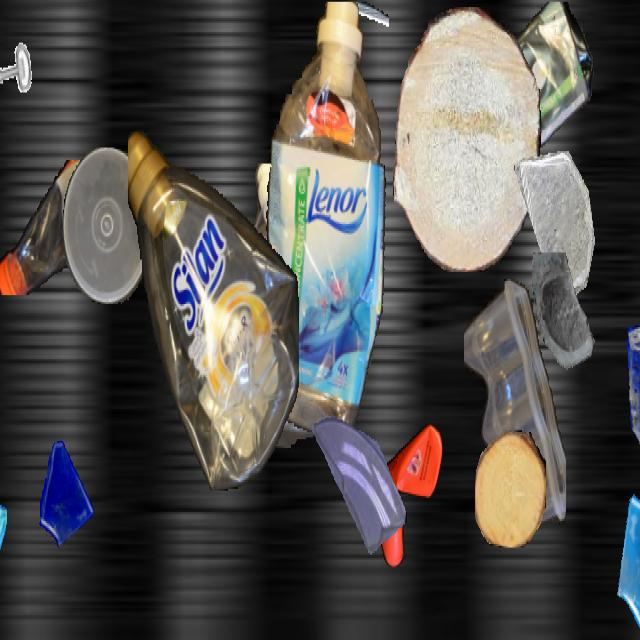glass: (312, 402, 406, 569), (514, 151, 598, 301), (527, 253, 605, 391), (34, 436, 96, 546), (613, 478, 640, 638), (621, 306, 640, 473), (0, 478, 6, 638)
metal: (326, 2, 388, 112), (0, 4, 35, 103)
plastic: (128, 117, 298, 491), (248, 2, 388, 446), (241, 164, 375, 448), (439, 2, 595, 183), (464, 279, 566, 532), (0, 160, 140, 295), (63, 148, 151, 304), (369, 425, 443, 567)
wood: (392, 7, 540, 270), (475, 430, 545, 548)
